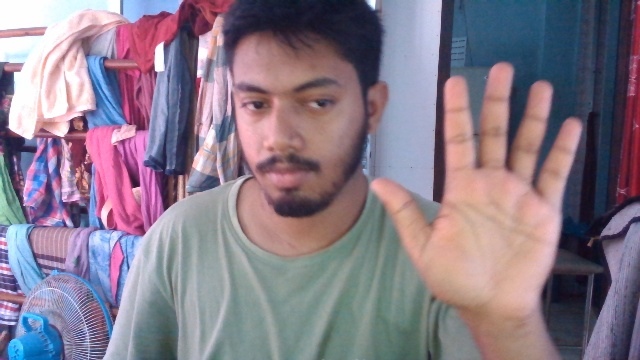hello: (365, 63, 601, 317)
